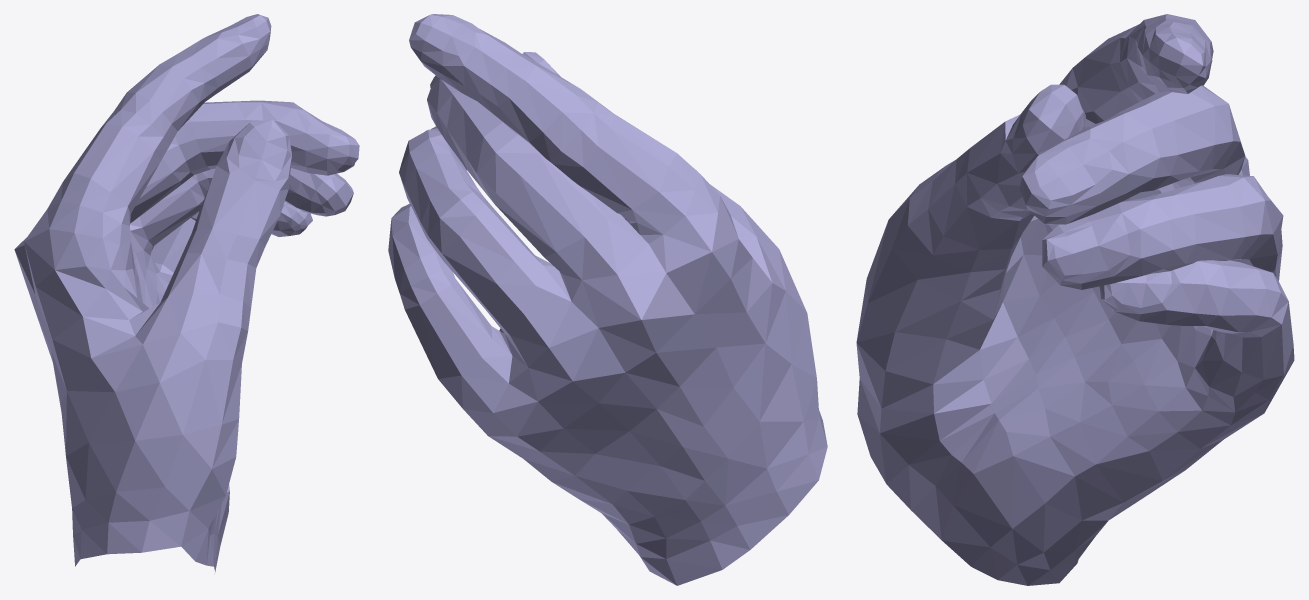
The model's file is frame_0043_source_000043_hand.glb.
3 views of the same model, side by side, from view 1: azimuth 30°, elevation 25°; view 2: azimuth 150°, elevation 25°; view 3: azimuth 270°, elevation 25° (orthographic). The views are drawn at different scales.
Parts seen in each view (by area): view 1: world; view 2: world; view 3: world.
Boxes of the visible parts, bbox=[...] form: world: bbox=[14, 14, 359, 572]; world: bbox=[388, 14, 827, 585]; world: bbox=[856, 14, 1294, 585].
Bounding box in the file's own units: 0.0977 × 0.149 × 0.0922.
